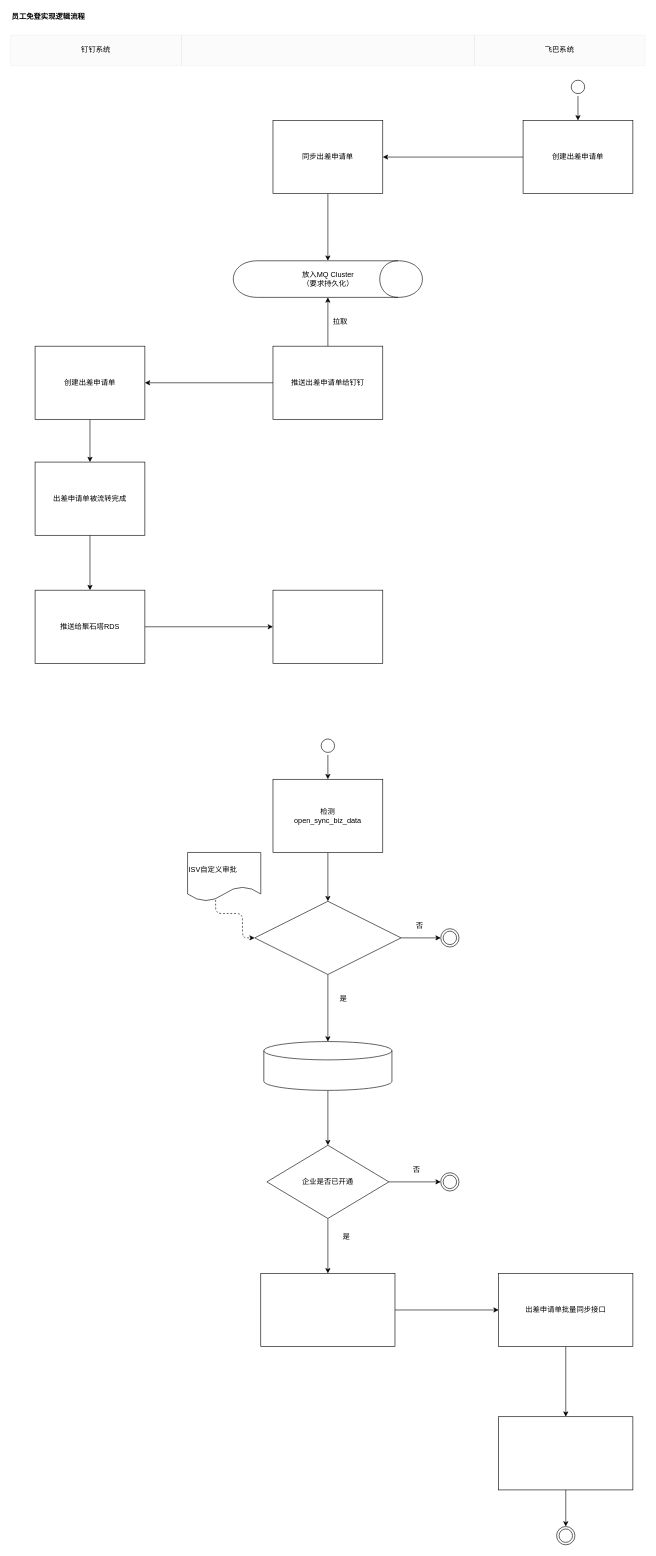
The diagram is 656 pixels wide and 1556 high, and some of its shapes have lost their labels. The shapes that lost their labels are listed below. From the top down, each one's centre as x and y in pixels, then its label:
[327,50]: 飞巴H5
[327,626]: 存入 open_sync_biz_data
[327,937]: biz_type=22
[327,1065]: Redis中取当前企业开通状态
[327,1310]: 推送出差申请单给飞巴
[565,1453]: 创建或同步出差申请单
